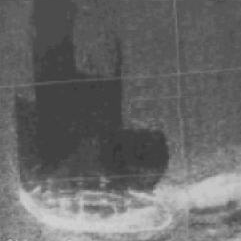ship: (16, 183, 180, 239)
